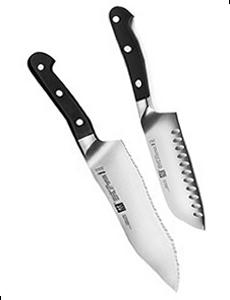knife: (26, 51, 181, 290), (106, 4, 206, 232)
